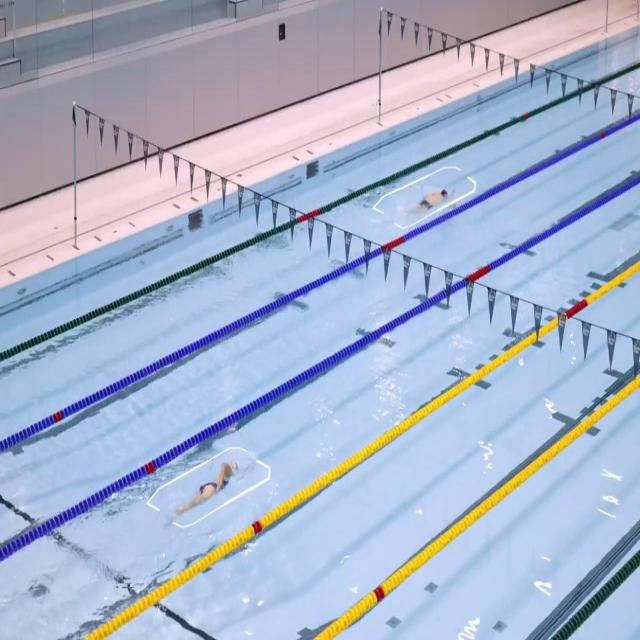Swimming: (170, 461, 252, 522), (405, 188, 456, 216)
